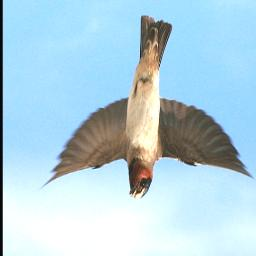Swallow: (38, 14, 255, 201)
